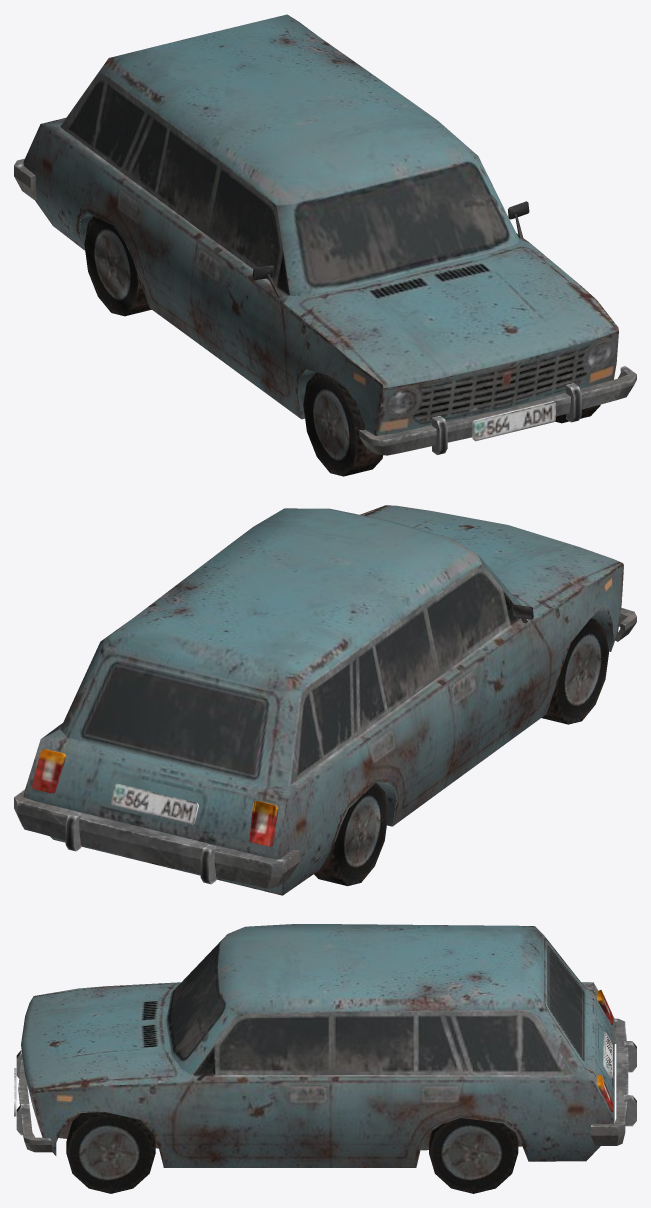
The model's file is car_zhiguli_2.glb.
The picture shows the model from 3 angles, top to bottom: view 1: azimuth 30°, elevation 25°; view 2: azimuth 150°, elevation 25°; view 3: azimuth 270°, elevation 25°; orthographic projection. The views are drawn at different scales.
Parts seen in each view (by area): view 1: car_zhiguli_2; view 2: car_zhiguli_2; view 3: car_zhiguli_2.
Boxes of the visible parts, <box> form: car_zhiguli_2: <box>14,14,636,476</box>; car_zhiguli_2: <box>14,505,636,895</box>; car_zhiguli_2: <box>14,924,636,1193</box>.
Size of the model in its own units: 1.8 by 1.43 by 4.25.
Materials: 1 (1 with a texture image).
